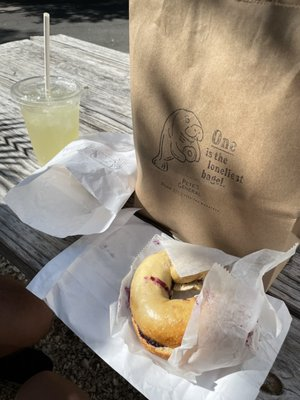pizza: (129, 1, 300, 257), (10, 74, 82, 167)
